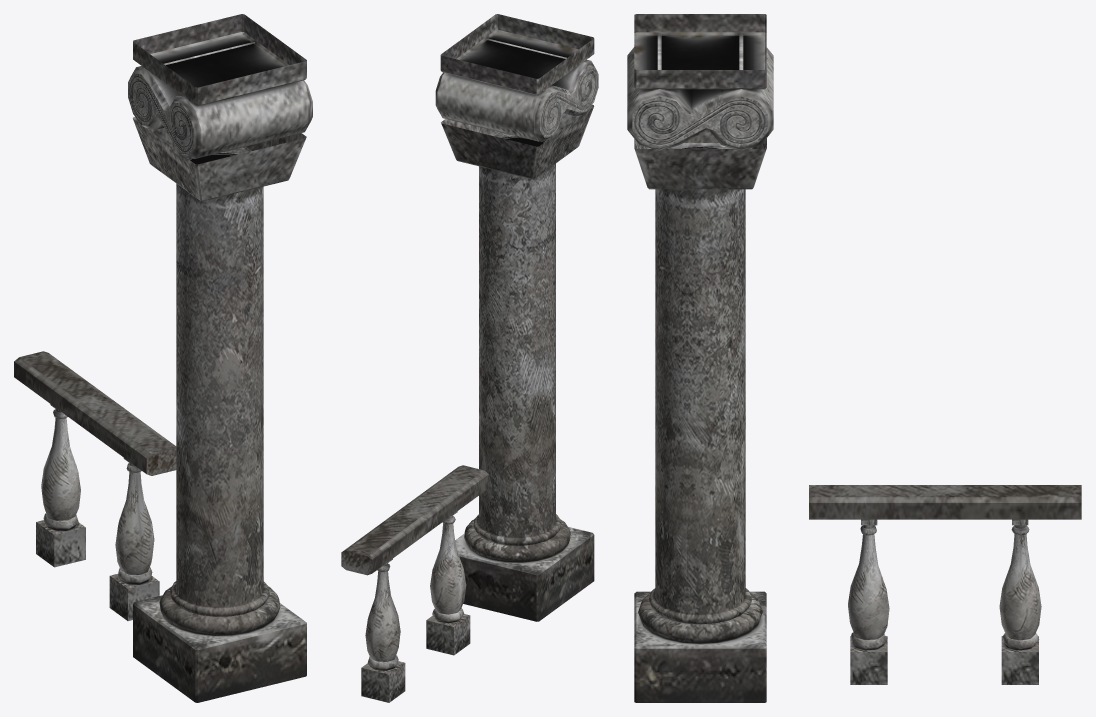
The model's file is entryColumn2.fbx.
3 renders of one model, left to right at view 1: azimuth 30°, elevation 25°; view 2: azimuth 150°, elevation 25°; view 3: azimuth 270°, elevation 25°, orthographic. The views are drawn at different scales.
Visible parts, largest first — view 1: polySurface1003; view 2: polySurface1003; view 3: polySurface1003.
Part boxes in pixels (x1,y1,x2,y2): polySurface1003: [14, 14, 312, 702]; polySurface1003: [341, 14, 598, 702]; polySurface1003: [627, 14, 1081, 702].
Bounding box in the file's own units: 71.2 × 355 × 230.
